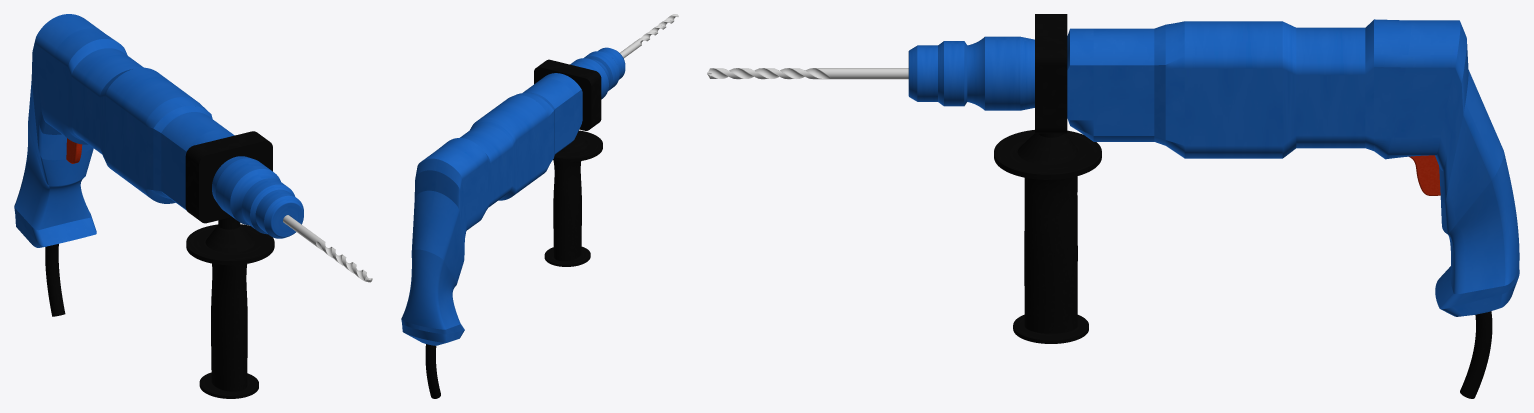
File: HammerDrill_compressed.glb
The picture shows the model from 3 angles, left to right: view 1: azimuth 30°, elevation 25°; view 2: azimuth 150°, elevation 25°; view 3: azimuth 270°, elevation 25°; orthographic projection. The views are drawn at different scales.
Visible parts, largest first — view 1: Empty; view 2: Empty; view 3: Empty.
Part boxes in pixels (left/top/right/bottom): Empty: left=14, top=14, right=372, bottom=398; Empty: left=401, top=14, right=678, bottom=398; Empty: left=707, top=14, right=1519, bottom=398.
Bounding box in the file's own units: 0.0714 × 0.2726 × 0.5371.
7 materials, 6 textured.
